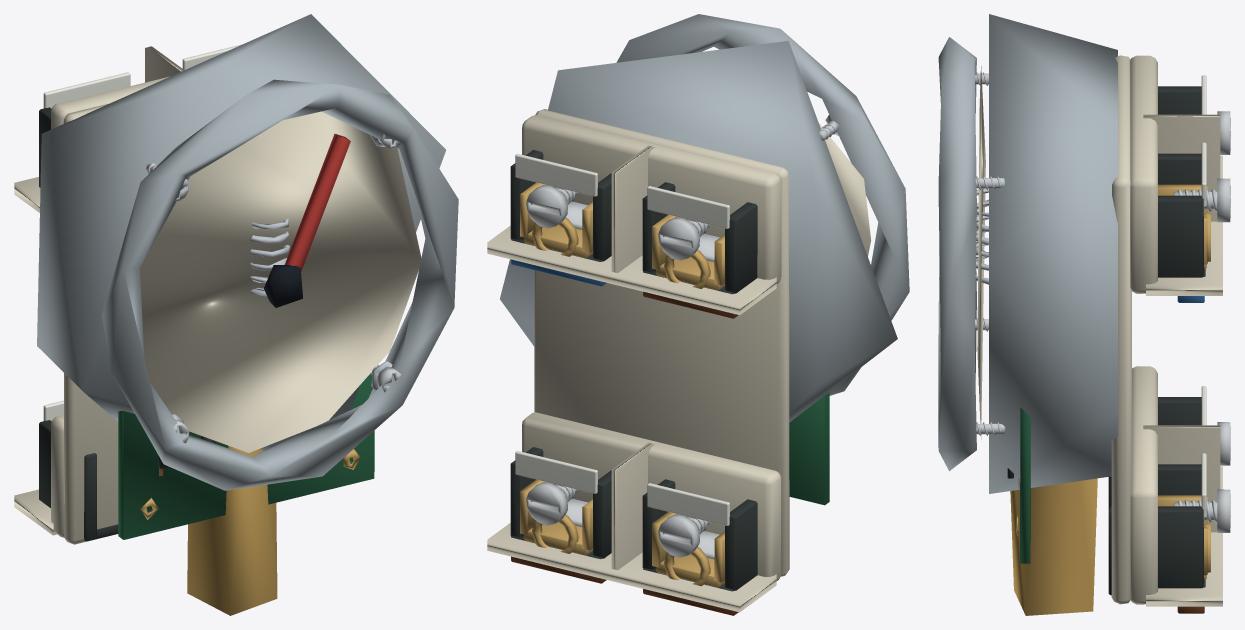
File: sensor_mode_pressure.low.glb
3 views of the same model, side by side, from view 1: azimuth 30°, elevation 25°; view 2: azimuth 150°, elevation 25°; view 3: azimuth 270°, elevation 25° (orthographic). The views are drawn at different scales.
Visible parts, largest first — view 1: part:body, part:mounting.002, part:terminals · Original 5a609f27, FR4 control PCB, part:sensing, detail:terminal-clamp:IN · Detail moulded engineering polyme, Moulded terminal legend pad, detail:sensor-transducer · Detail brushed stainless steel, detail:gauge-bezel-retainers · Detail zinc plated fixing; view 2: part:terminals · Original 5a609f27, part:body, part:mounting.002, FR4 control PCB, detail:terminal-clamp:IN · Detail moulded engineering polyme, detail:terminal-clamp:L · Detail moulded engineering polymer, detail:terminal-clamp:N · Detail moulded engineering polymer, detail:terminal-clamp:OUT · Detail moulded engineering polym, detail:terminal-clamp:IN · Detail machined brass, detail:terminal-clamp:L · Detail machined brass, detail:terminal-clamp:OUT · Detail machined brass, detail:terminal-clamp:N · Detail machined brass (+8 smaller); view 3: part:body, part:terminals · Original 5a609f27, part:mounting.002, detail:terminal-clamp:OUT · Detail moulded engineering polym, detail:terminal-clamp:N · Detail moulded engineering polymer, FR4 control PCB, detail:terminal-clamp:IN · Detail moulded engineering polyme, detail:terminal-clamp:L · Detail moulded engineering polymer, detail:terminal-clamp:N · Detail zinc plated fixing, detail:terminal-clamp:OUT · Detail zinc plated fixing, detail:gauge-bezel-retainers · Detail zinc plated fixing, detail:terminal-clamp:N · Detail machined brass (+4 smaller).
Part boxes in pixels (box(x1,y1,x2,y2)): part:body: box(37, 14, 445, 615); part:mounting.002: box(102, 79, 458, 490); part:terminals · Original 5a609f27: box(14, 46, 183, 544); FR4 control PCB: box(118, 374, 374, 539); part:sensing: box(264, 134, 350, 307); detail:terminal-clamp:IN · Detail moulded engineering polyme: box(39, 420, 118, 541); Moulded terminal legend pad: box(43, 72, 130, 108); detail:sensor-transducer · Detail brushed stainless steel: box(250, 218, 289, 296); detail:gauge-bezel-retainers · Detail zinc plated fixing: box(146, 134, 401, 443); part:terminals · Original 5a609f27: box(487, 109, 789, 612); part:body: box(500, 41, 897, 422); part:mounting.002: box(616, 14, 909, 395); FR4 control PCB: box(789, 392, 829, 505); detail:terminal-clamp:IN · Detail moulded engineering polyme: box(642, 479, 757, 591); detail:terminal-clamp:L · Detail moulded engineering polymer: box(642, 182, 757, 294); detail:terminal-clamp:N · Detail moulded engineering polymer: box(510, 150, 611, 261); detail:terminal-clamp:OUT · Detail moulded engineering polym: box(510, 447, 611, 559); detail:terminal-clamp:IN · Detail machined brass: box(652, 512, 724, 587); detail:terminal-clamp:L · Detail machined brass: box(652, 214, 724, 290); detail:terminal-clamp:OUT · Detail machined brass: box(520, 479, 592, 555); detail:terminal-clamp:N · Detail machined brass: box(520, 182, 592, 258); part:body: box(977, 14, 1117, 615); part:terminals · Original 5a609f27: box(1111, 55, 1222, 606); part:mounting.002: box(938, 37, 976, 471); detail:terminal-clamp:OUT · Detail moulded engineering polym: box(1108, 464, 1205, 595); detail:terminal-clamp:N · Detail moulded engineering polymer: box(1158, 153, 1205, 277); FR4 control PCB: box(1020, 408, 1030, 563); detail:terminal-clamp:IN · Detail moulded engineering polyme: box(1158, 397, 1201, 425); detail:terminal-clamp:L · Detail moulded engineering polymer: box(1158, 86, 1201, 114); detail:terminal-clamp:N · Detail zinc plated fixing: box(1173, 178, 1230, 222); detail:terminal-clamp:OUT · Detail zinc plated fixing: box(1173, 489, 1230, 532); detail:gauge-bezel-retainers · Detail zinc plated fixing: box(974, 72, 1005, 435); detail:terminal-clamp:N · Detail machined brass: box(1158, 184, 1210, 268).
Size of the model in its own units: 0.4866 by 0.7146 by 0.3417.
